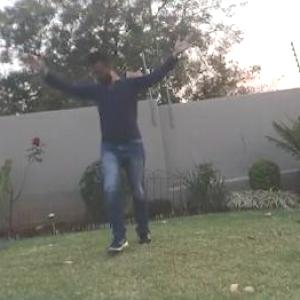takeoff: (23, 38, 192, 255)
